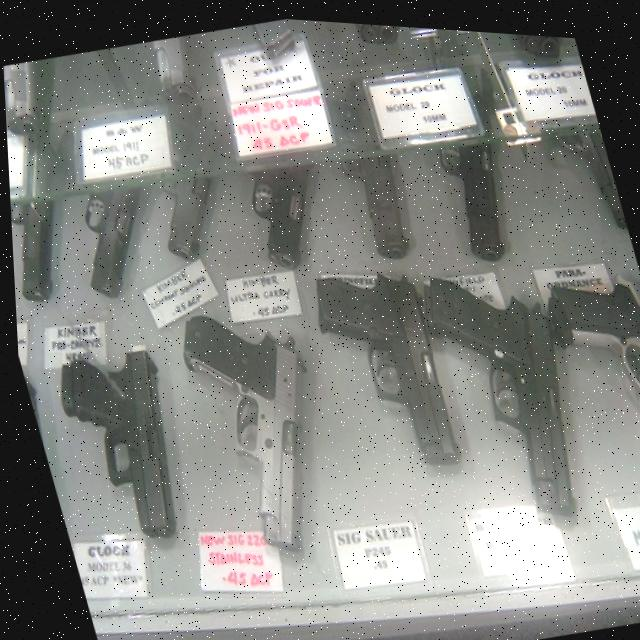pistol: (405, 238, 601, 532), (166, 287, 353, 567), (301, 248, 466, 482), (45, 338, 199, 555), (206, 92, 339, 278), (43, 114, 168, 306), (124, 79, 250, 267), (534, 252, 640, 467), (420, 81, 527, 263), (315, 68, 415, 262), (17, 365, 73, 547), (552, 112, 626, 232), (8, 191, 74, 305), (2, 56, 64, 146), (142, 30, 204, 109), (471, 25, 567, 66), (341, 18, 406, 49)
